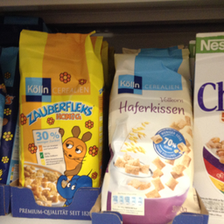cereal: (103, 55, 204, 223), (18, 30, 103, 207)
